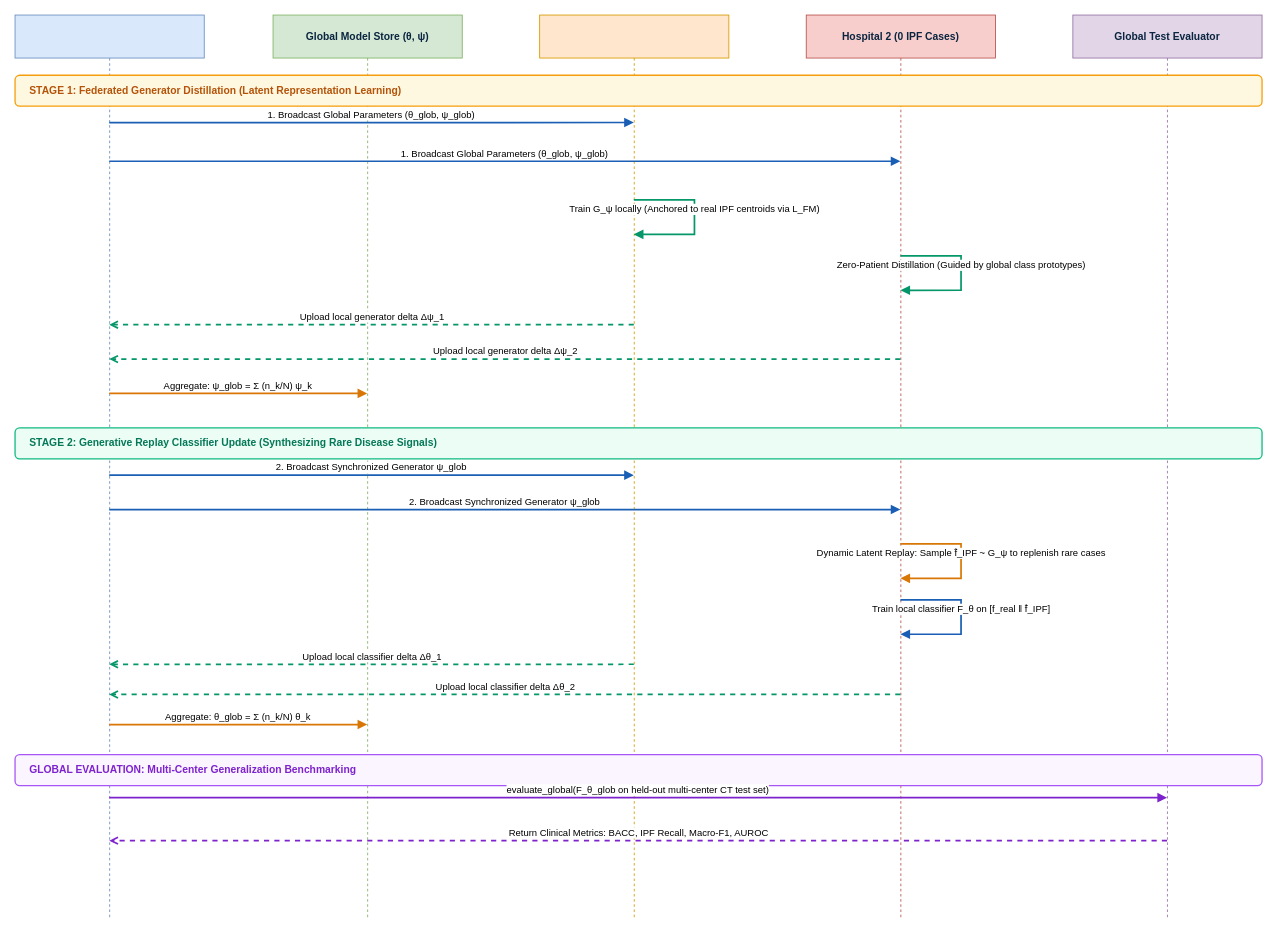
This 1278x933 diagram has some shape labels left out. Each missing label, with the box of its shape:
Federated Server Coordinator: (14, 14, 204, 918)
Hospital 1 (High IPF Center): (539, 14, 729, 918)
